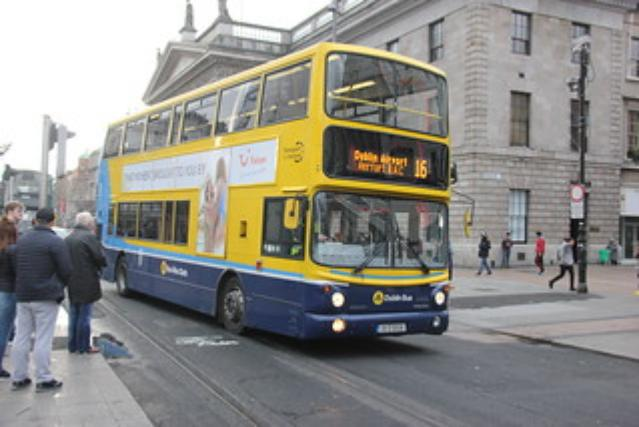bus: (94, 42, 449, 345)
